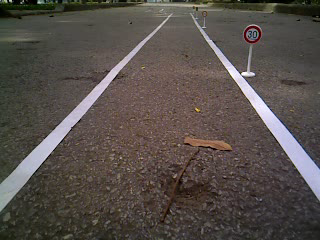limit 30: (242, 24, 263, 46)
